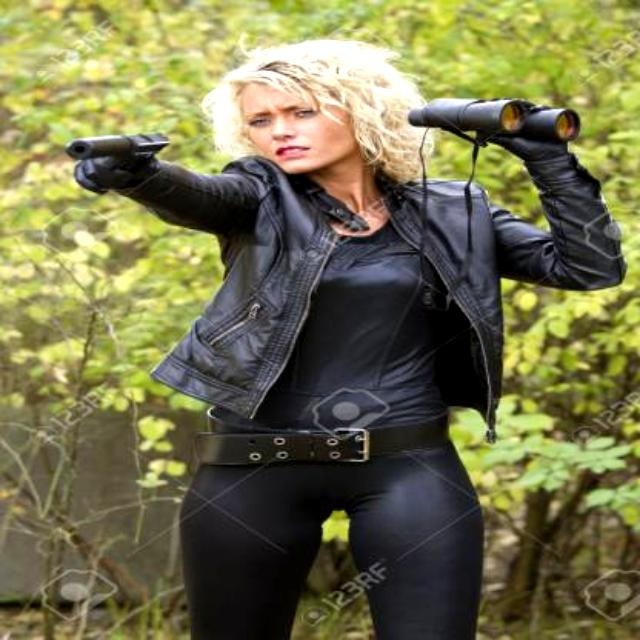pistol: (57, 102, 171, 202)
